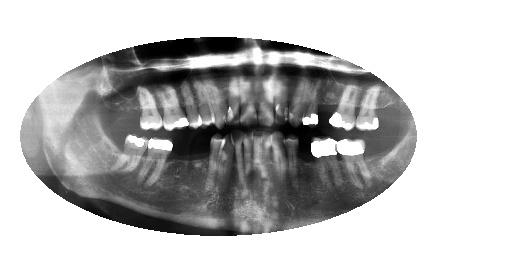i10chipped: (231, 131, 245, 182)
i11healthy: (219, 134, 235, 197)
i12healthy: (208, 137, 227, 193)
i13loss: (192, 137, 208, 192)
i14loss: (160, 137, 191, 192)
i15healthy: (140, 138, 173, 187)
i16healthy: (110, 135, 150, 175)
i1loss: (368, 135, 394, 180)
i2healthy: (337, 135, 372, 190)
i3healthy: (309, 132, 345, 194)
i4loss: (298, 136, 312, 181)
i5healthy: (283, 135, 300, 181)
i6healthy: (270, 131, 284, 183)
i7healthy: (262, 130, 272, 183)
i8healthy: (254, 131, 263, 182)
i9chipped: (242, 131, 254, 181)
u10healthy: (227, 72, 242, 128)
u11healthy: (209, 75, 229, 130)
u12healthy: (198, 77, 215, 126)
u13healthy: (179, 80, 203, 133)
u14healthy: (154, 81, 189, 133)
u15healthy: (135, 79, 162, 132)
u16loss: (115, 83, 138, 127)
u1loss: (378, 92, 401, 129)
u2healthy: (354, 80, 383, 131)
u3healthy: (327, 84, 360, 130)
u4loss: (318, 78, 342, 128)
u5healthy: (301, 73, 320, 127)
u6healthy: (287, 75, 307, 126)
u7healthy: (272, 75, 288, 124)
u8healthy: (256, 75, 276, 127)
u9healthy: (240, 76, 256, 127)
